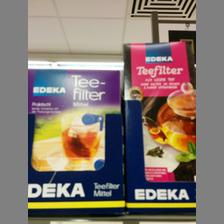Tee: (122, 40, 195, 180), (27, 67, 119, 171)
